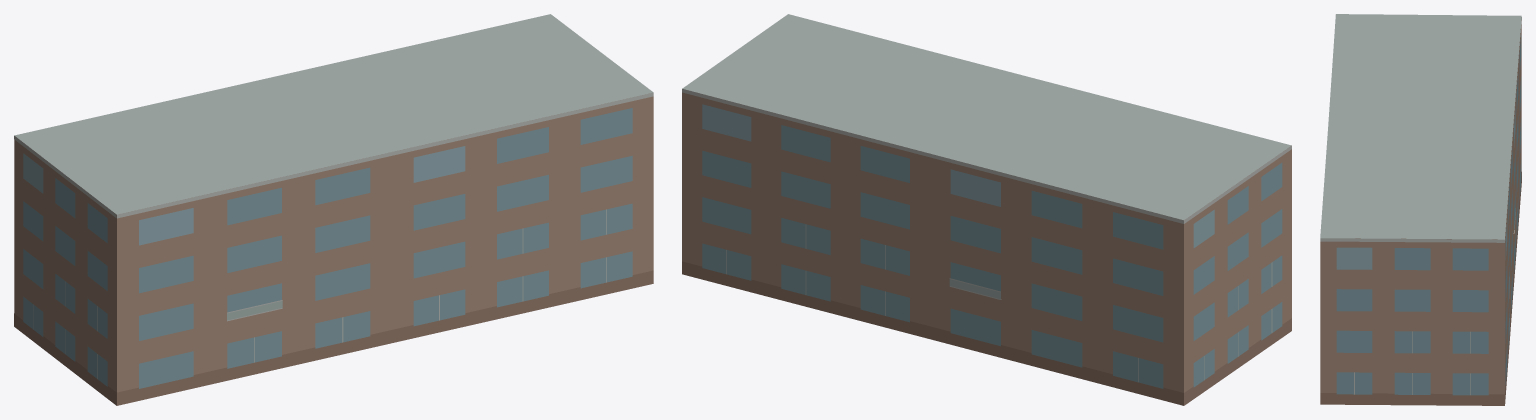
File: survey-upis-32565648.glb
The picture shows the model from 3 angles, left to right: view 1: azimuth 30°, elevation 25°; view 2: azimuth 150°, elevation 25°; view 3: azimuth 270°, elevation 25°; orthographic projection. The views are drawn at different scales.
Parts seen in each view (by area): view 1: survey-upis-32565648.tmp; view 2: survey-upis-32565648.tmp; view 3: survey-upis-32565648.tmp.
Part boxes in pixels (x1,y1,x2,y2): survey-upis-32565648.tmp: (14,14,653,405); survey-upis-32565648.tmp: (682,14,1291,405); survey-upis-32565648.tmp: (1320,14,1521,405).
Size of the model in its own units: 35.18 by 12.1 by 13.3.
